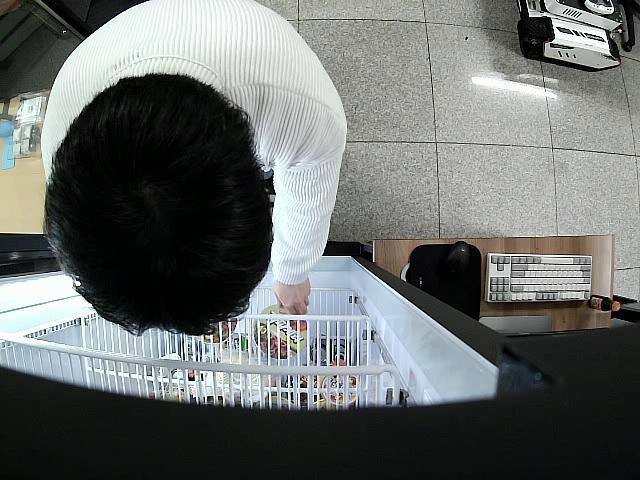03_chapagetti_L: (256, 306, 310, 356)
